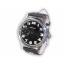watch: (16, 16, 48, 48)
